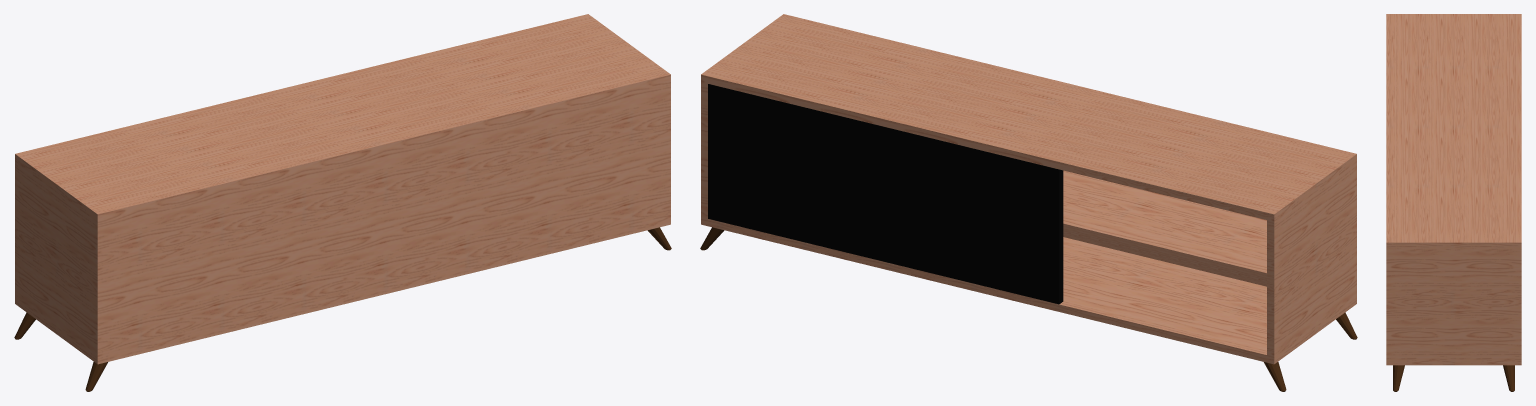
The model's file is Bedroom - rack(1).fbx.
3 views of the same model, side by side, from view 1: azimuth 30°, elevation 25°; view 2: azimuth 150°, elevation 25°; view 3: azimuth 270°, elevation 25° (orthographic). The views are drawn at different scales.
Visible parts, largest first — view 1: Cube.308; view 2: Cube.308, Cube.307; view 3: Cube.308, Cylinder.034, Cylinder.035.
Part boxes in pixels (x1,y1,x2,y2): Cube.308: [15, 14, 670, 364]; Cube.308: [701, 14, 1356, 364]; Cube.307: [708, 84, 1063, 304]; Cube.308: [1386, 14, 1521, 365]; Cylinder.034: [1393, 365, 1404, 391]; Cylinder.035: [1503, 365, 1514, 391].
Size of the model in its own units: 816 by 240 by 200.
